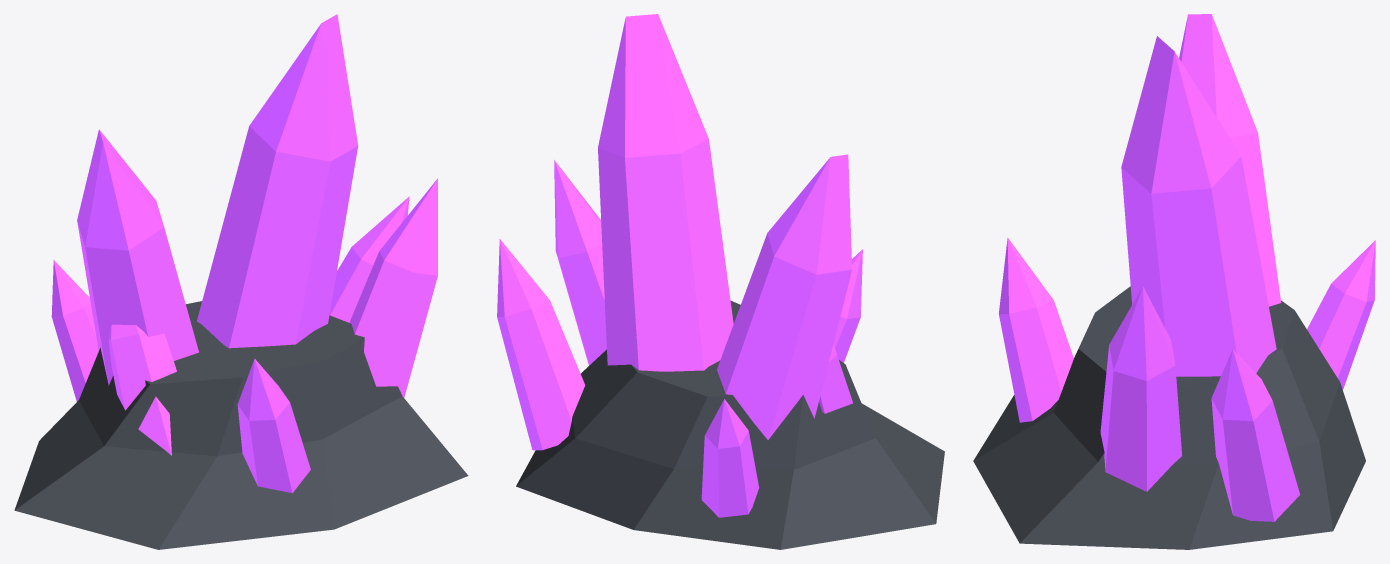
The model's file is PROP_02_MediumCrystalCluster.fbx.
3 views of the same model, side by side, from view 1: azimuth 30°, elevation 25°; view 2: azimuth 150°, elevation 25°; view 3: azimuth 270°, elevation 25° (orthographic). The views are drawn at different scales.
Visible parts, largest first — view 1: PROP_02_MediumCrystalCluster; view 2: PROP_02_MediumCrystalCluster; view 3: PROP_02_MediumCrystalCluster.
Boxes of the visible parts, x1,y1,x2,y2 form: PROP_02_MediumCrystalCluster: [14, 14, 468, 549]; PROP_02_MediumCrystalCluster: [497, 14, 944, 549]; PROP_02_MediumCrystalCluster: [973, 14, 1375, 549].
Size of the model in its own units: 163 by 160 by 126.
